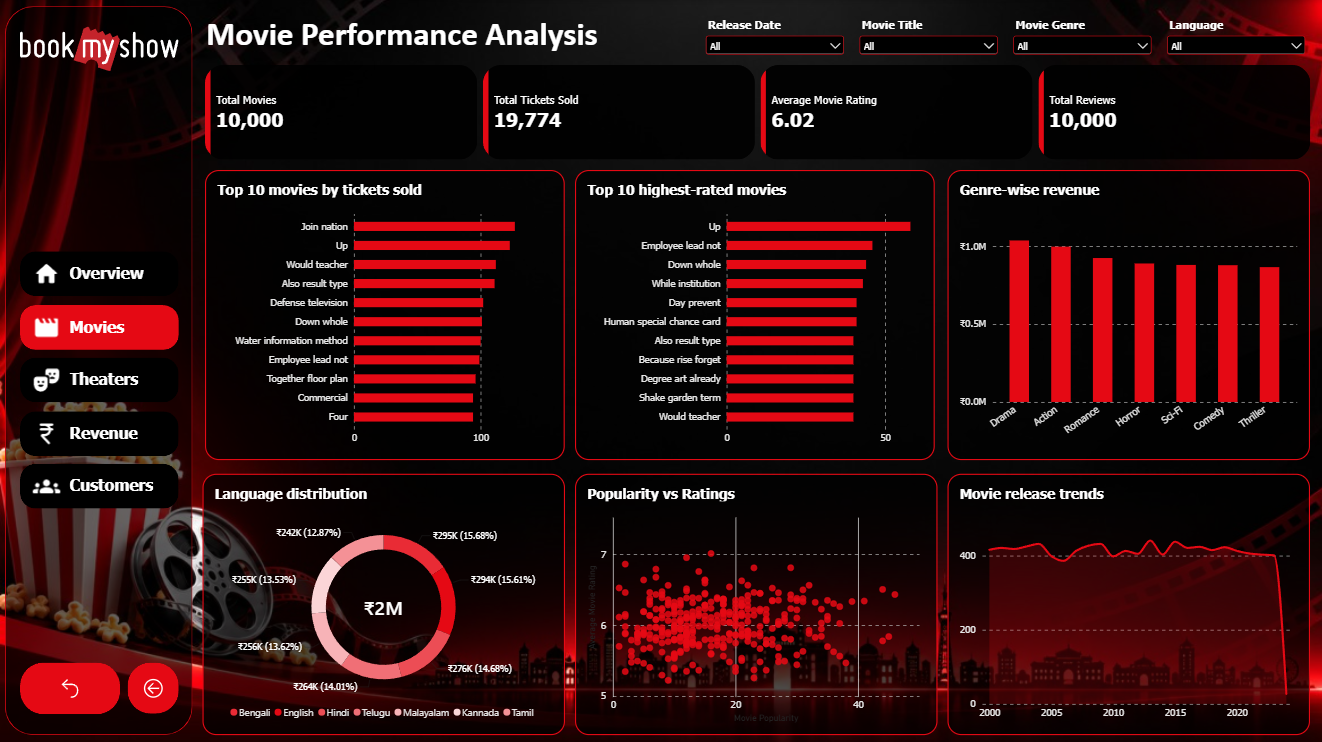

The page's visual inventory and layout, read from the dashboard file:
{"tool":"powerbi","page":{"name":"Movie Performance Analysis","canvas":[1920,1080],"ordinal":1},"visuals":[{"type":"shape","box":[7.9,9,271.4,1055],"z":0},{"type":"cardVisual","fields":{"Data":["_Measures.Total Movies","_Measures.Total Tickets Sold","_Measures.Average Movie Rating","_Measures.Total Reviews"]},"box":[296.8,94.1,1603.4,137.5],"z":1000},{"type":"barChart","title":" Top 10 movies by tickets sold","fields":{"Category":["bookmyshow_db movies.title"],"Y":["_Measures.Total Tickets Sold"]},"box":[296.8,246.1,521.2,419.8],"z":2000},{"type":"columnChart","title":"Genre-wise revenue","fields":{"Category":["bookmyshow_db movies.genre"],"Y":["_Measures.Total Revenue"]},"box":[1371.7,246.1,524.8,419.8],"z":3000},{"type":"donutChart","title":"Language distribution","fields":{"Category":["bookmyshow_db movies.language"],"Y":["_Measures.Total Revenue"]},"box":[293.9,685.9,525,378.2],"z":4000},{"type":"scatterChart","title":"Popularity vs Ratings","fields":{"Category":["bookmyshow_db movies.title"],"X":["_Measures.Total Tickets Sold"],"Y":["_Measures.Average Movie Rating"]},"box":[833.2,685.9,525,378.2],"z":5000},{"type":"lineChart","title":"Movie release trends","fields":{"Category":["bookmyshow_db movies.release_date.Variation.Date Hierarchy.Year"],"Y":["_Measures.Total Movies"]},"box":[1372.4,685.9,525,378.2],"z":6000},{"type":"slicer","title":"Language","fields":{"Values":["bookmyshow_db movies.language"]},"box":[1684.9,25.3,209.9,56.1],"z":7000},{"type":"slicer","title":"Language","fields":{"Values":["bookmyshow_db movies.genre"]},"box":[1462.3,25.3,209.9,56.1],"z":8000},{"type":"slicer","title":"Language","fields":{"Values":["bookmyshow_db movies.title"]},"box":[1239.7,25.3,209.9,56.1],"z":9000},{"type":"slicer","title":"Language","fields":{"Values":["bookmyshow_db movies.release_date"]},"box":[1017.1,25.3,209.9,56.1],"z":10000},{"type":"textbox","box":[298.6,19.9,704,63.3],"z":11000},{"type":"actionButton","box":[28.3,959.2,145,75],"z":12000},{"type":"actionButton","box":[184.2,960,74.2,74.2],"z":13000},{"type":"image","box":[28.3,19.9,229.8,101.3],"z":14000},{"type":"actionButton","box":[29,363.7,229.8,65.1],"z":15000},{"type":"actionButton","box":[28.9,440.7,230,65.1],"z":16000},{"type":"actionButton","box":[29,517.6,229.8,65.1],"z":17000},{"type":"actionButton","box":[29,594.5,229.8,65.1],"z":18000},{"type":"actionButton","box":[29,671.4,229.8,65.1],"z":19000},{"type":"barChart","title":"Top 10 highest-rated movies","fields":{"Category":["bookmyshow_db movies.title"],"Y":["CountNonNull(bookmyshow_db movies.rating)"]},"box":[832.4,246.1,521.2,419.8],"z":20000}]}

Visuals, with their boxes in screenshot pixels (x1, y1, x2, y2), scaled from the page's 1920x1080 canvas onto the 1322x742 screenshot:
shape: <box>5,6,192,731</box>
cardVisual - _Measures.Total Movies x _Measures.Total Tickets Sold: <box>204,65,1308,159</box>
" Top 10 movies by tickets sold" barChart: <box>204,169,563,457</box>
"Genre-wise revenue" columnChart: <box>944,169,1306,457</box>
"Language distribution" donutChart: <box>202,471,564,731</box>
"Popularity vs Ratings" scatterChart: <box>574,471,935,731</box>
"Movie release trends" lineChart: <box>945,471,1306,731</box>
"Language" slicer: <box>1160,17,1305,56</box>
"Language" slicer: <box>1007,17,1151,56</box>
"Language" slicer: <box>854,17,998,56</box>
"Language" slicer: <box>700,17,845,56</box>
textbox: <box>206,14,690,57</box>
actionButton: <box>19,659,119,711</box>
actionButton: <box>127,660,178,711</box>
image: <box>19,14,178,83</box>
actionButton: <box>20,250,178,295</box>
actionButton: <box>20,303,178,348</box>
actionButton: <box>20,356,178,400</box>
actionButton: <box>20,408,178,453</box>
actionButton: <box>20,461,178,506</box>
"Top 10 highest-rated movies" barChart: <box>573,169,932,457</box>
